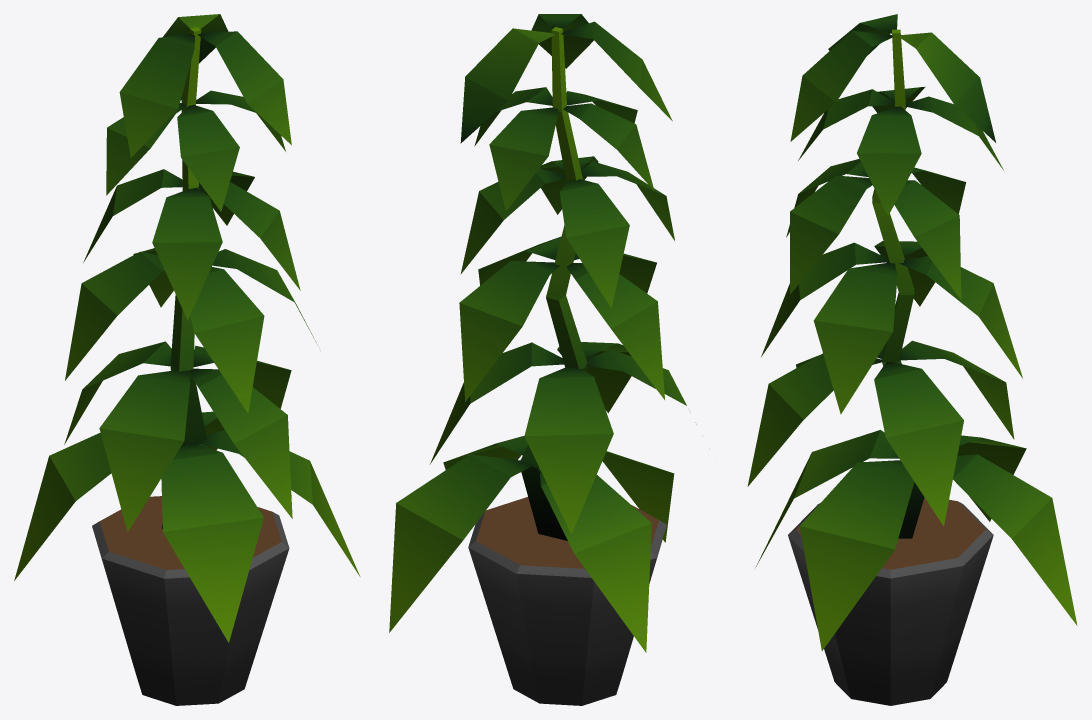
Rendered from Plant_001.fbx.
3 renders of one model, left to right at view 1: azimuth 30°, elevation 25°; view 2: azimuth 150°, elevation 25°; view 3: azimuth 270°, elevation 25°, orthographic.
Parts seen in each view (by area): view 1: Plant_001; view 2: Plant_001; view 3: Plant_001.
Part boxes in pixels (x1,y1,x2,y2): Plant_001: [14, 14, 360, 705]; Plant_001: [389, 14, 702, 705]; Plant_001: [747, 14, 1077, 705].
Bounding box in the file's own units: 95.19 × 224 × 103.
